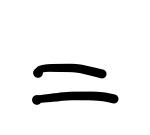eqv: (32, 64, 119, 105)
